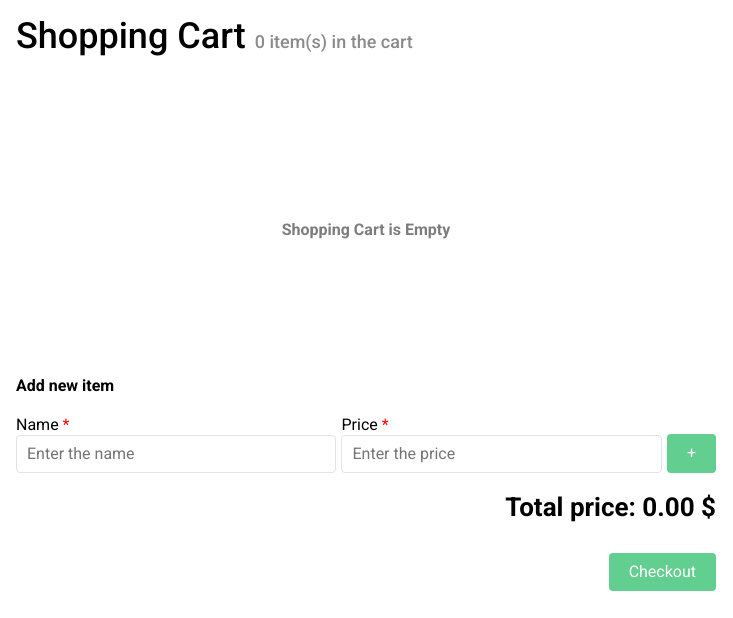
ShoppingCart › Could render with redux init
Expected: the field with test id "AddItemForm__name" is shown, [16,435,336,473]
# Clear input name price and set value
In the number field with test id "AddItemForm__price": (502, 454) [342,435,662,473], type "10"
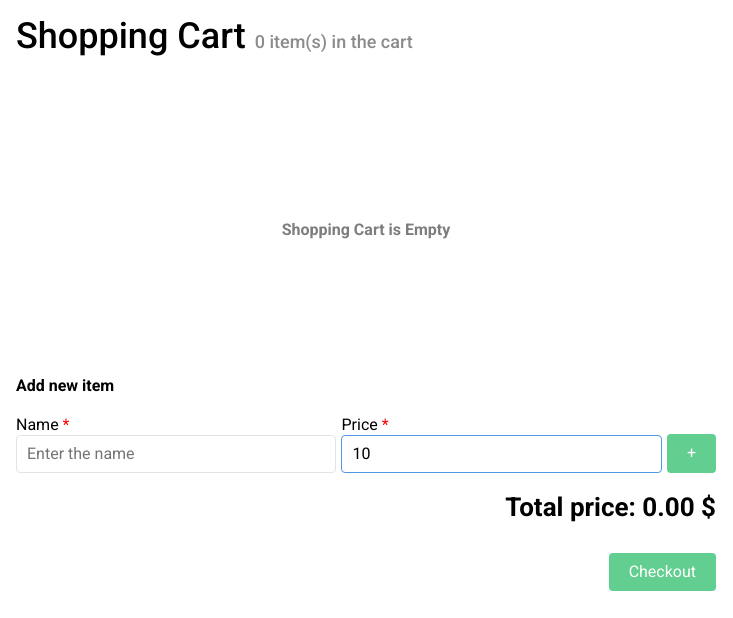
# Clear input name 'name' and set value
In the field with test id "AddItemForm__name": (176, 454) [16,435,336,473], type "item name"
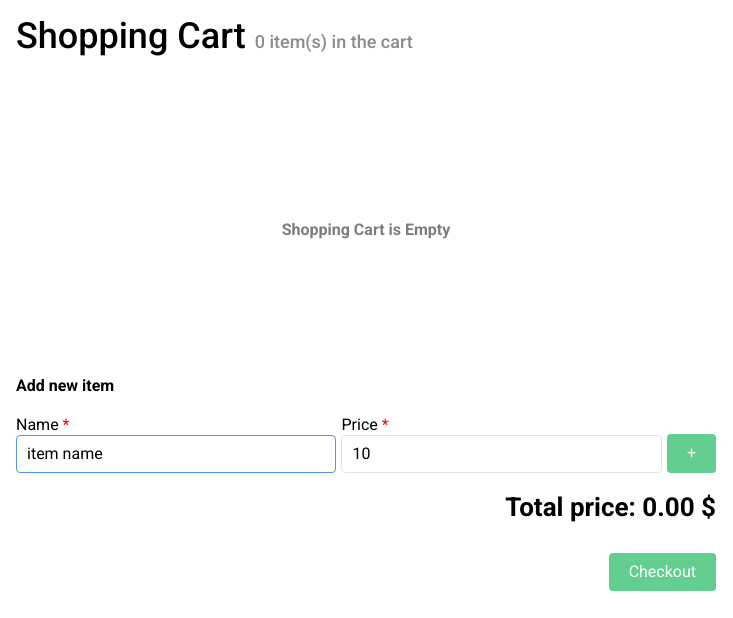
# Form submit on click button and add item in store
Click the button with test id "AddItemForm__button": (691, 454) [667,434,716,473]
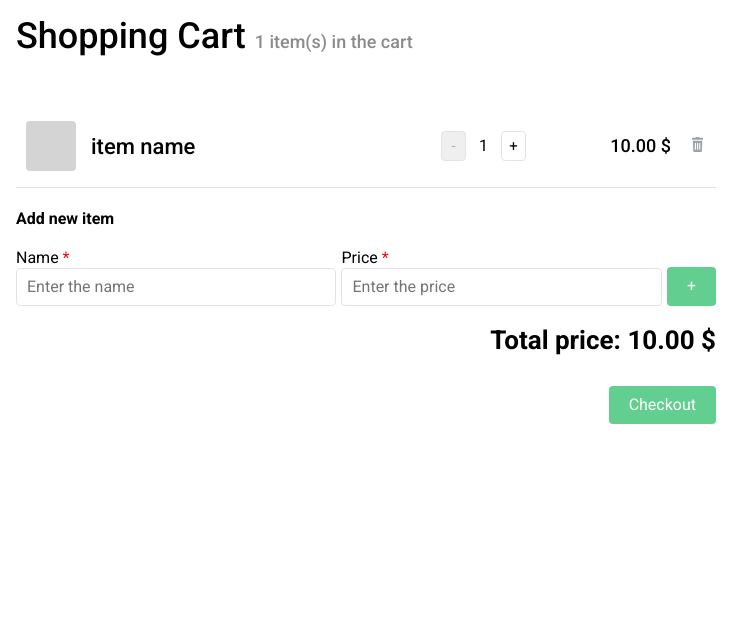
Expected: the element with test id "ShoppingCartItem_Counter" is shown, [441,131,526,161]
# Click counter increment
Click the button with test id "ShoppingCartItem_Counter_inc": (514, 146) [501,131,526,161]
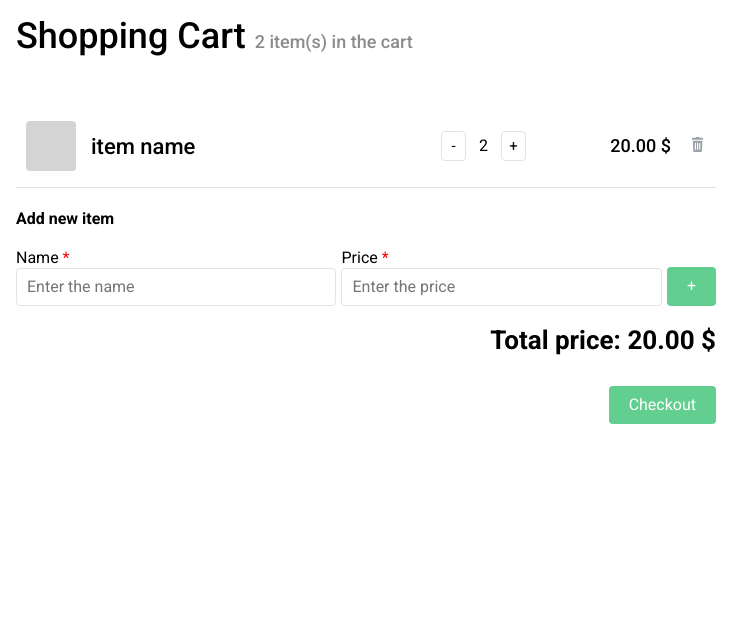
Expected: the text with test id "ShoppingCartItem_Counter_result" reads "2", [479,136,488,155]
Expected: the text with test id "ShoppingCartItem__price" shows "20.0", [610,135,656,156]
# Click counter decrement
Click the button with test id "ShoppingCartItem_Counter_dec": (454, 146) [441,131,466,161]
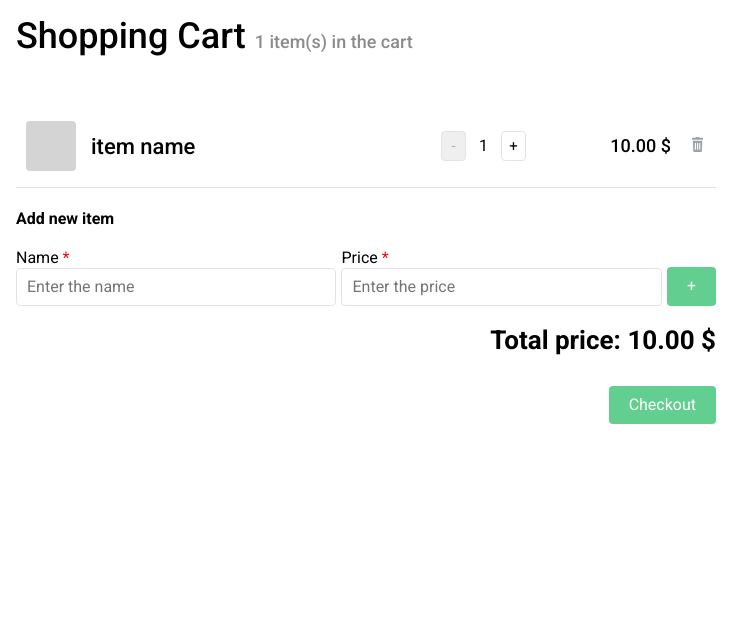
Expected: the text with test id "ShoppingCartItem_Counter_result" reads "1", [479,136,488,155]
Expected: the text with test id "ShoppingCartItem__price" shows "10.0", [610,135,656,156]
# If add item we have delete him from redux
Click the button with test id "AddItemForm__button_delete": (696, 146) [686,136,706,156]
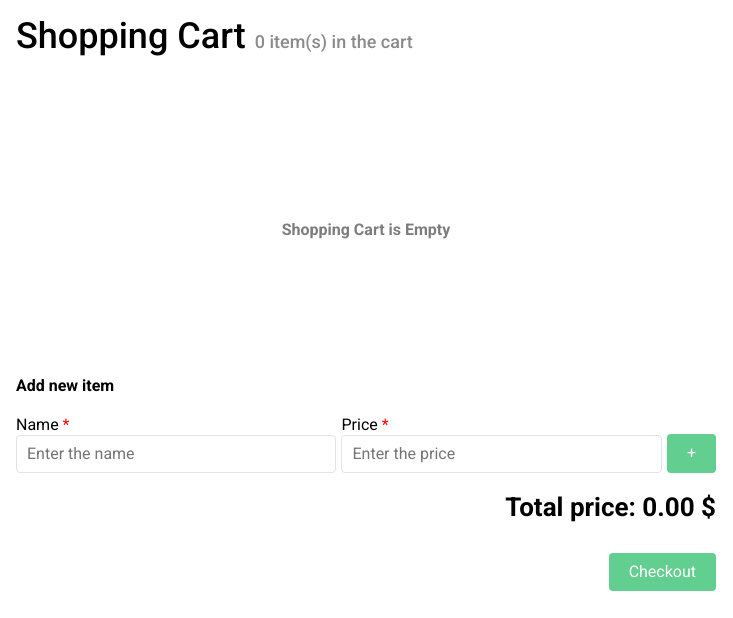
Expected: the element with test id "ShoppingCartItem_Counter" is gone
